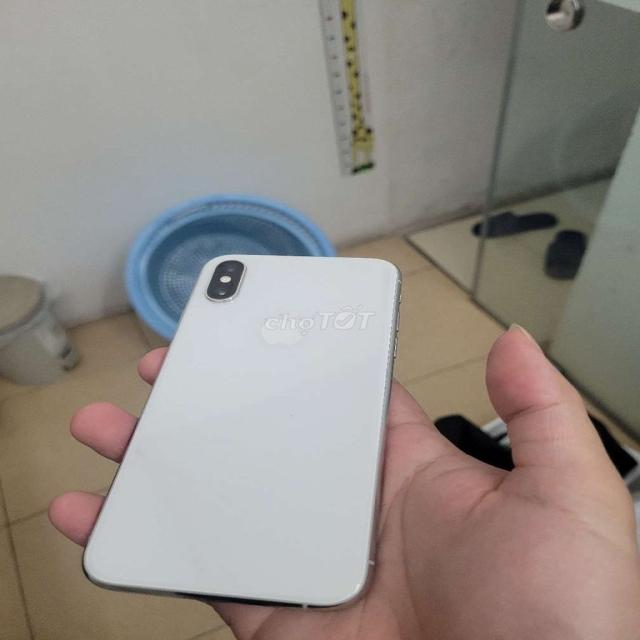gen_x_xs: (82, 254, 400, 609)
